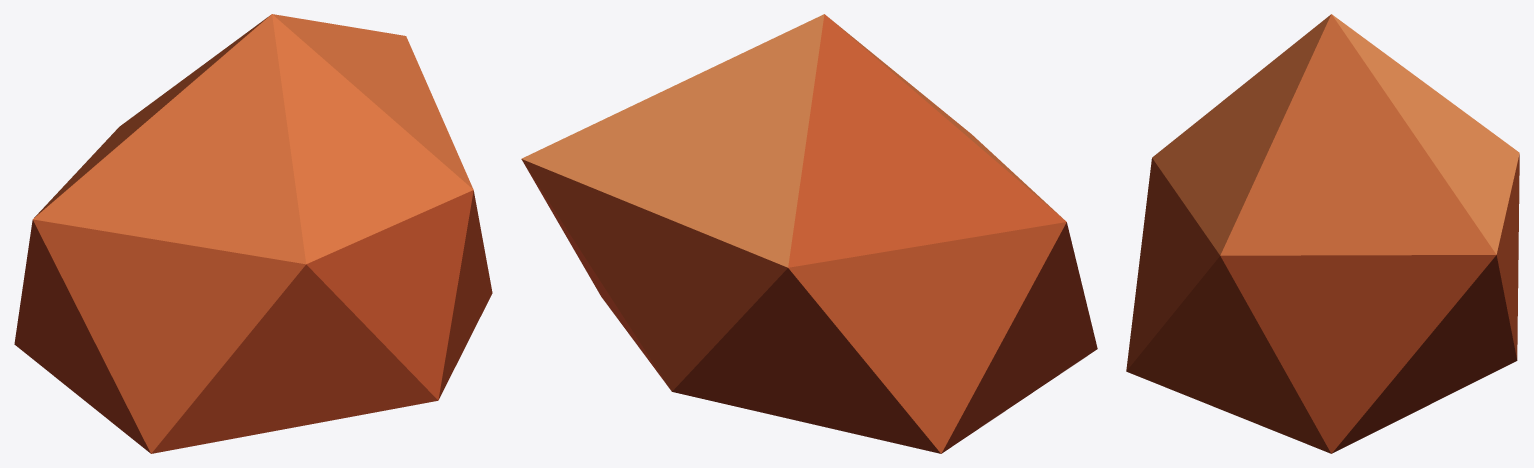
The model's file is SM_ROCK_S_04.fbx.
The picture shows the model from 3 angles, left to right: view 1: azimuth 30°, elevation 25°; view 2: azimuth 150°, elevation 25°; view 3: azimuth 270°, elevation 25°; orthographic projection.
Visible parts, largest first — view 1: ROCK_S_04; view 2: ROCK_S_04; view 3: ROCK_S_04.
Boxes of the visible parts, <box> form: ROCK_S_04: <box>14,14,492,453</box>; ROCK_S_04: <box>521,14,1097,453</box>; ROCK_S_04: <box>1126,14,1519,453</box>.
Bounding box in the file's own units: 0.8336 × 0.6186 × 0.585.
